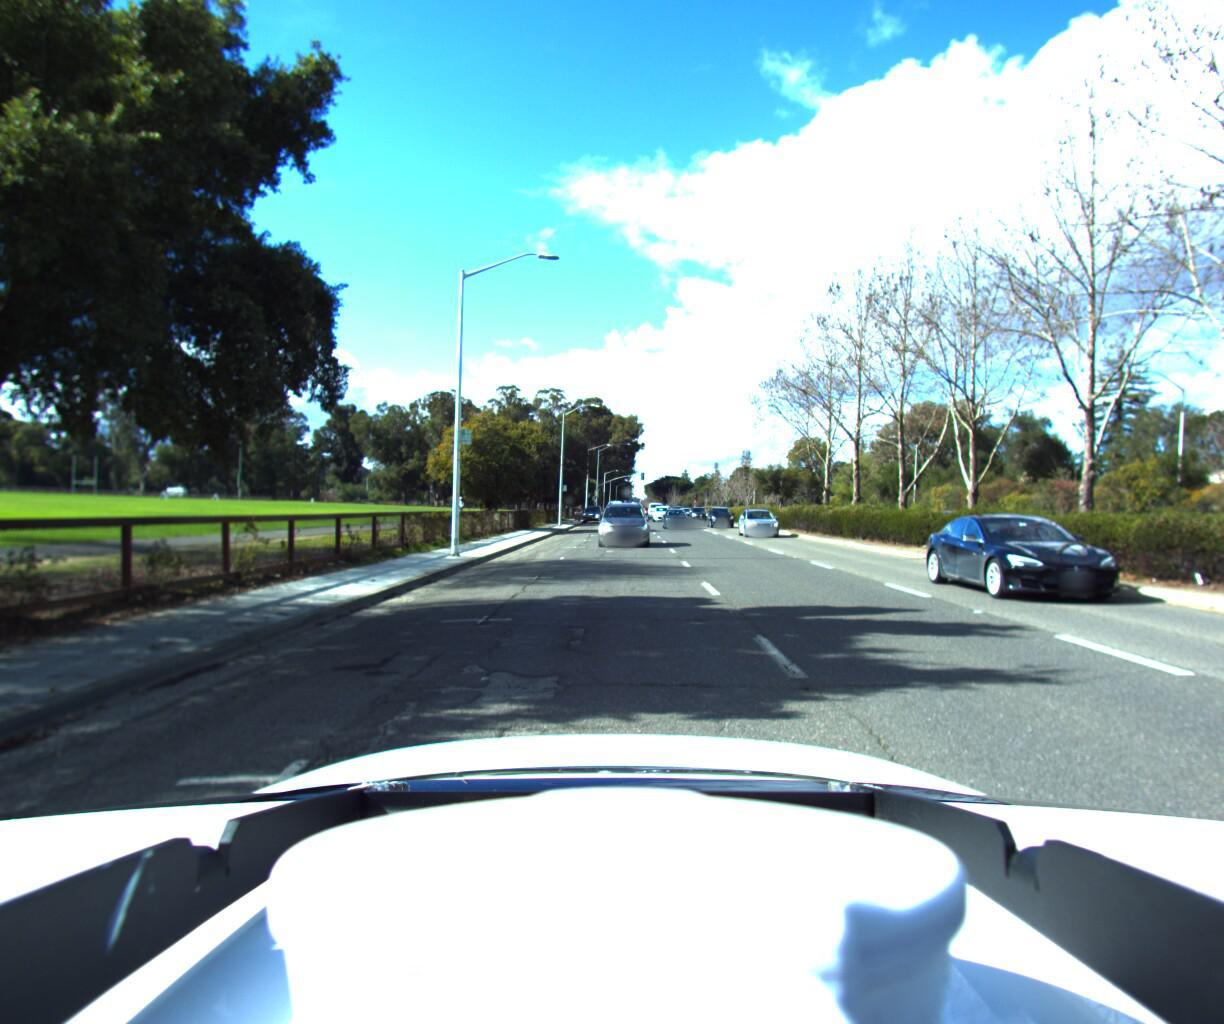car: (929, 507, 1208, 620), (597, 496, 650, 546), (739, 508, 786, 539), (707, 503, 739, 527), (662, 510, 693, 533), (582, 504, 602, 522), (651, 505, 671, 522)
